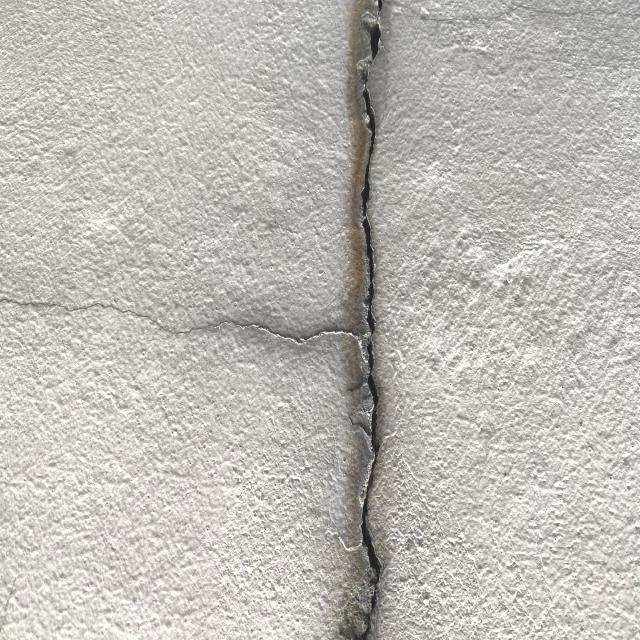SurfaceCrack: (288, 0, 446, 636)
